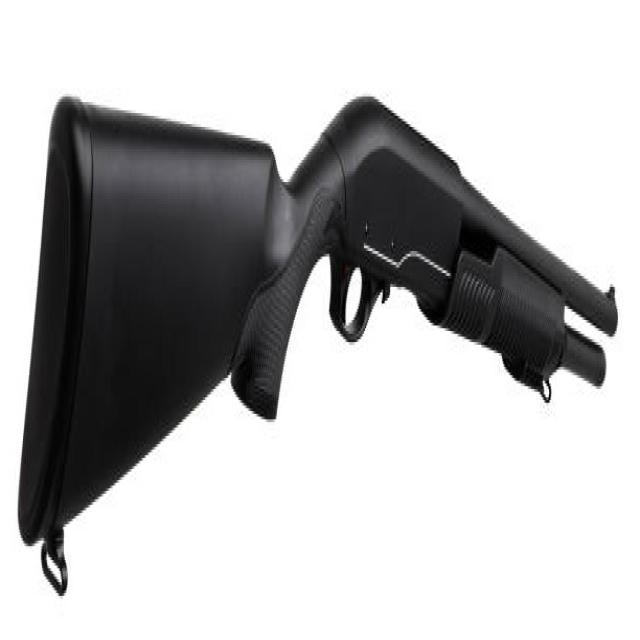rifle: (10, 73, 622, 616)
